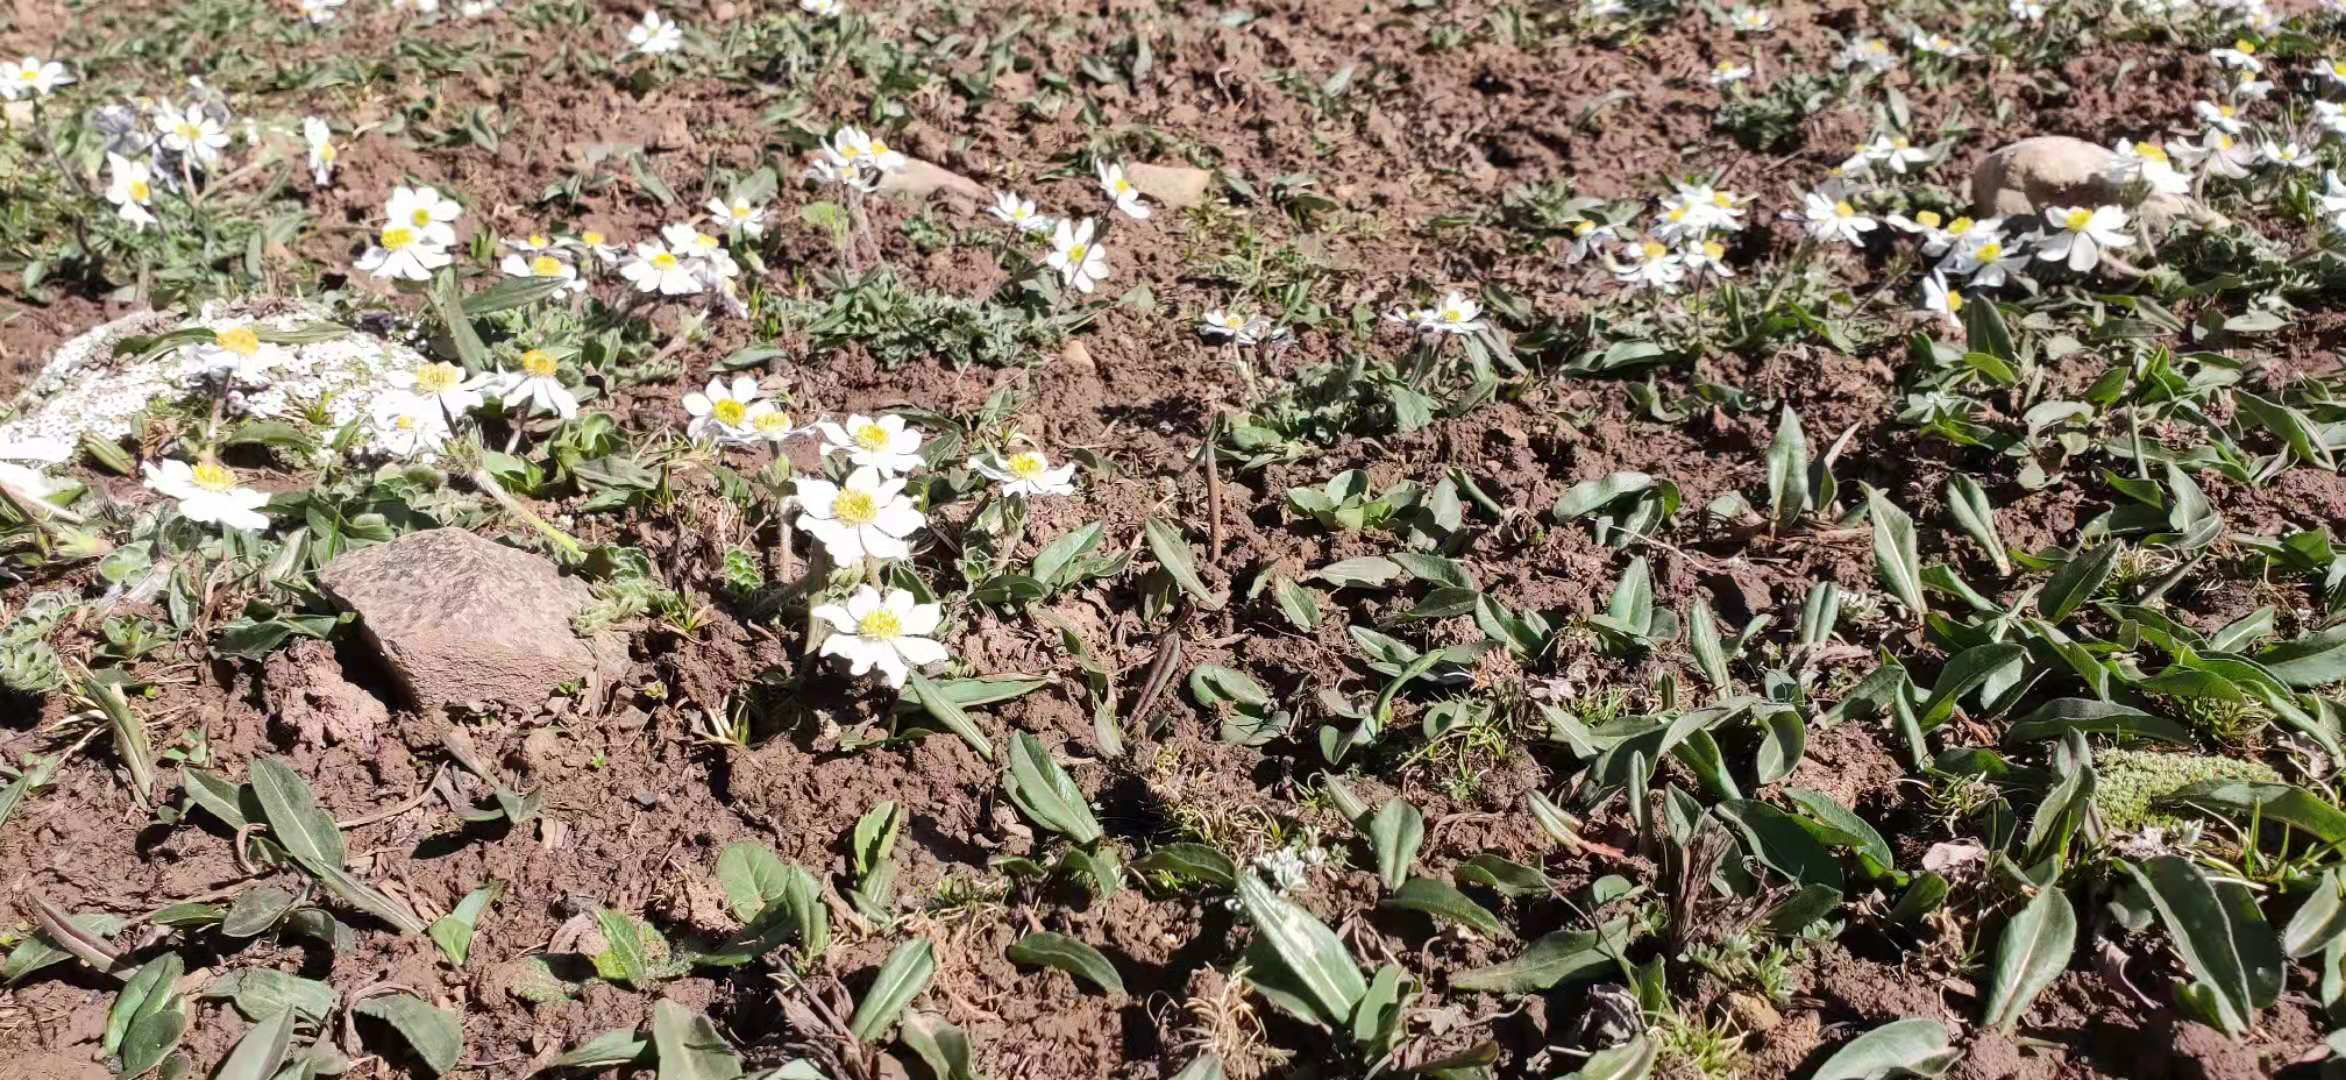cpf: (1206, 423, 1228, 573)
